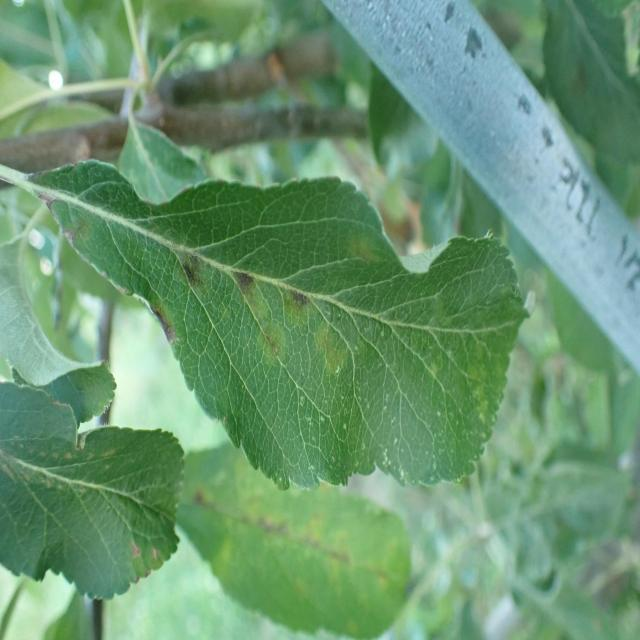scab: (33, 162, 521, 476), (152, 474, 427, 610)
